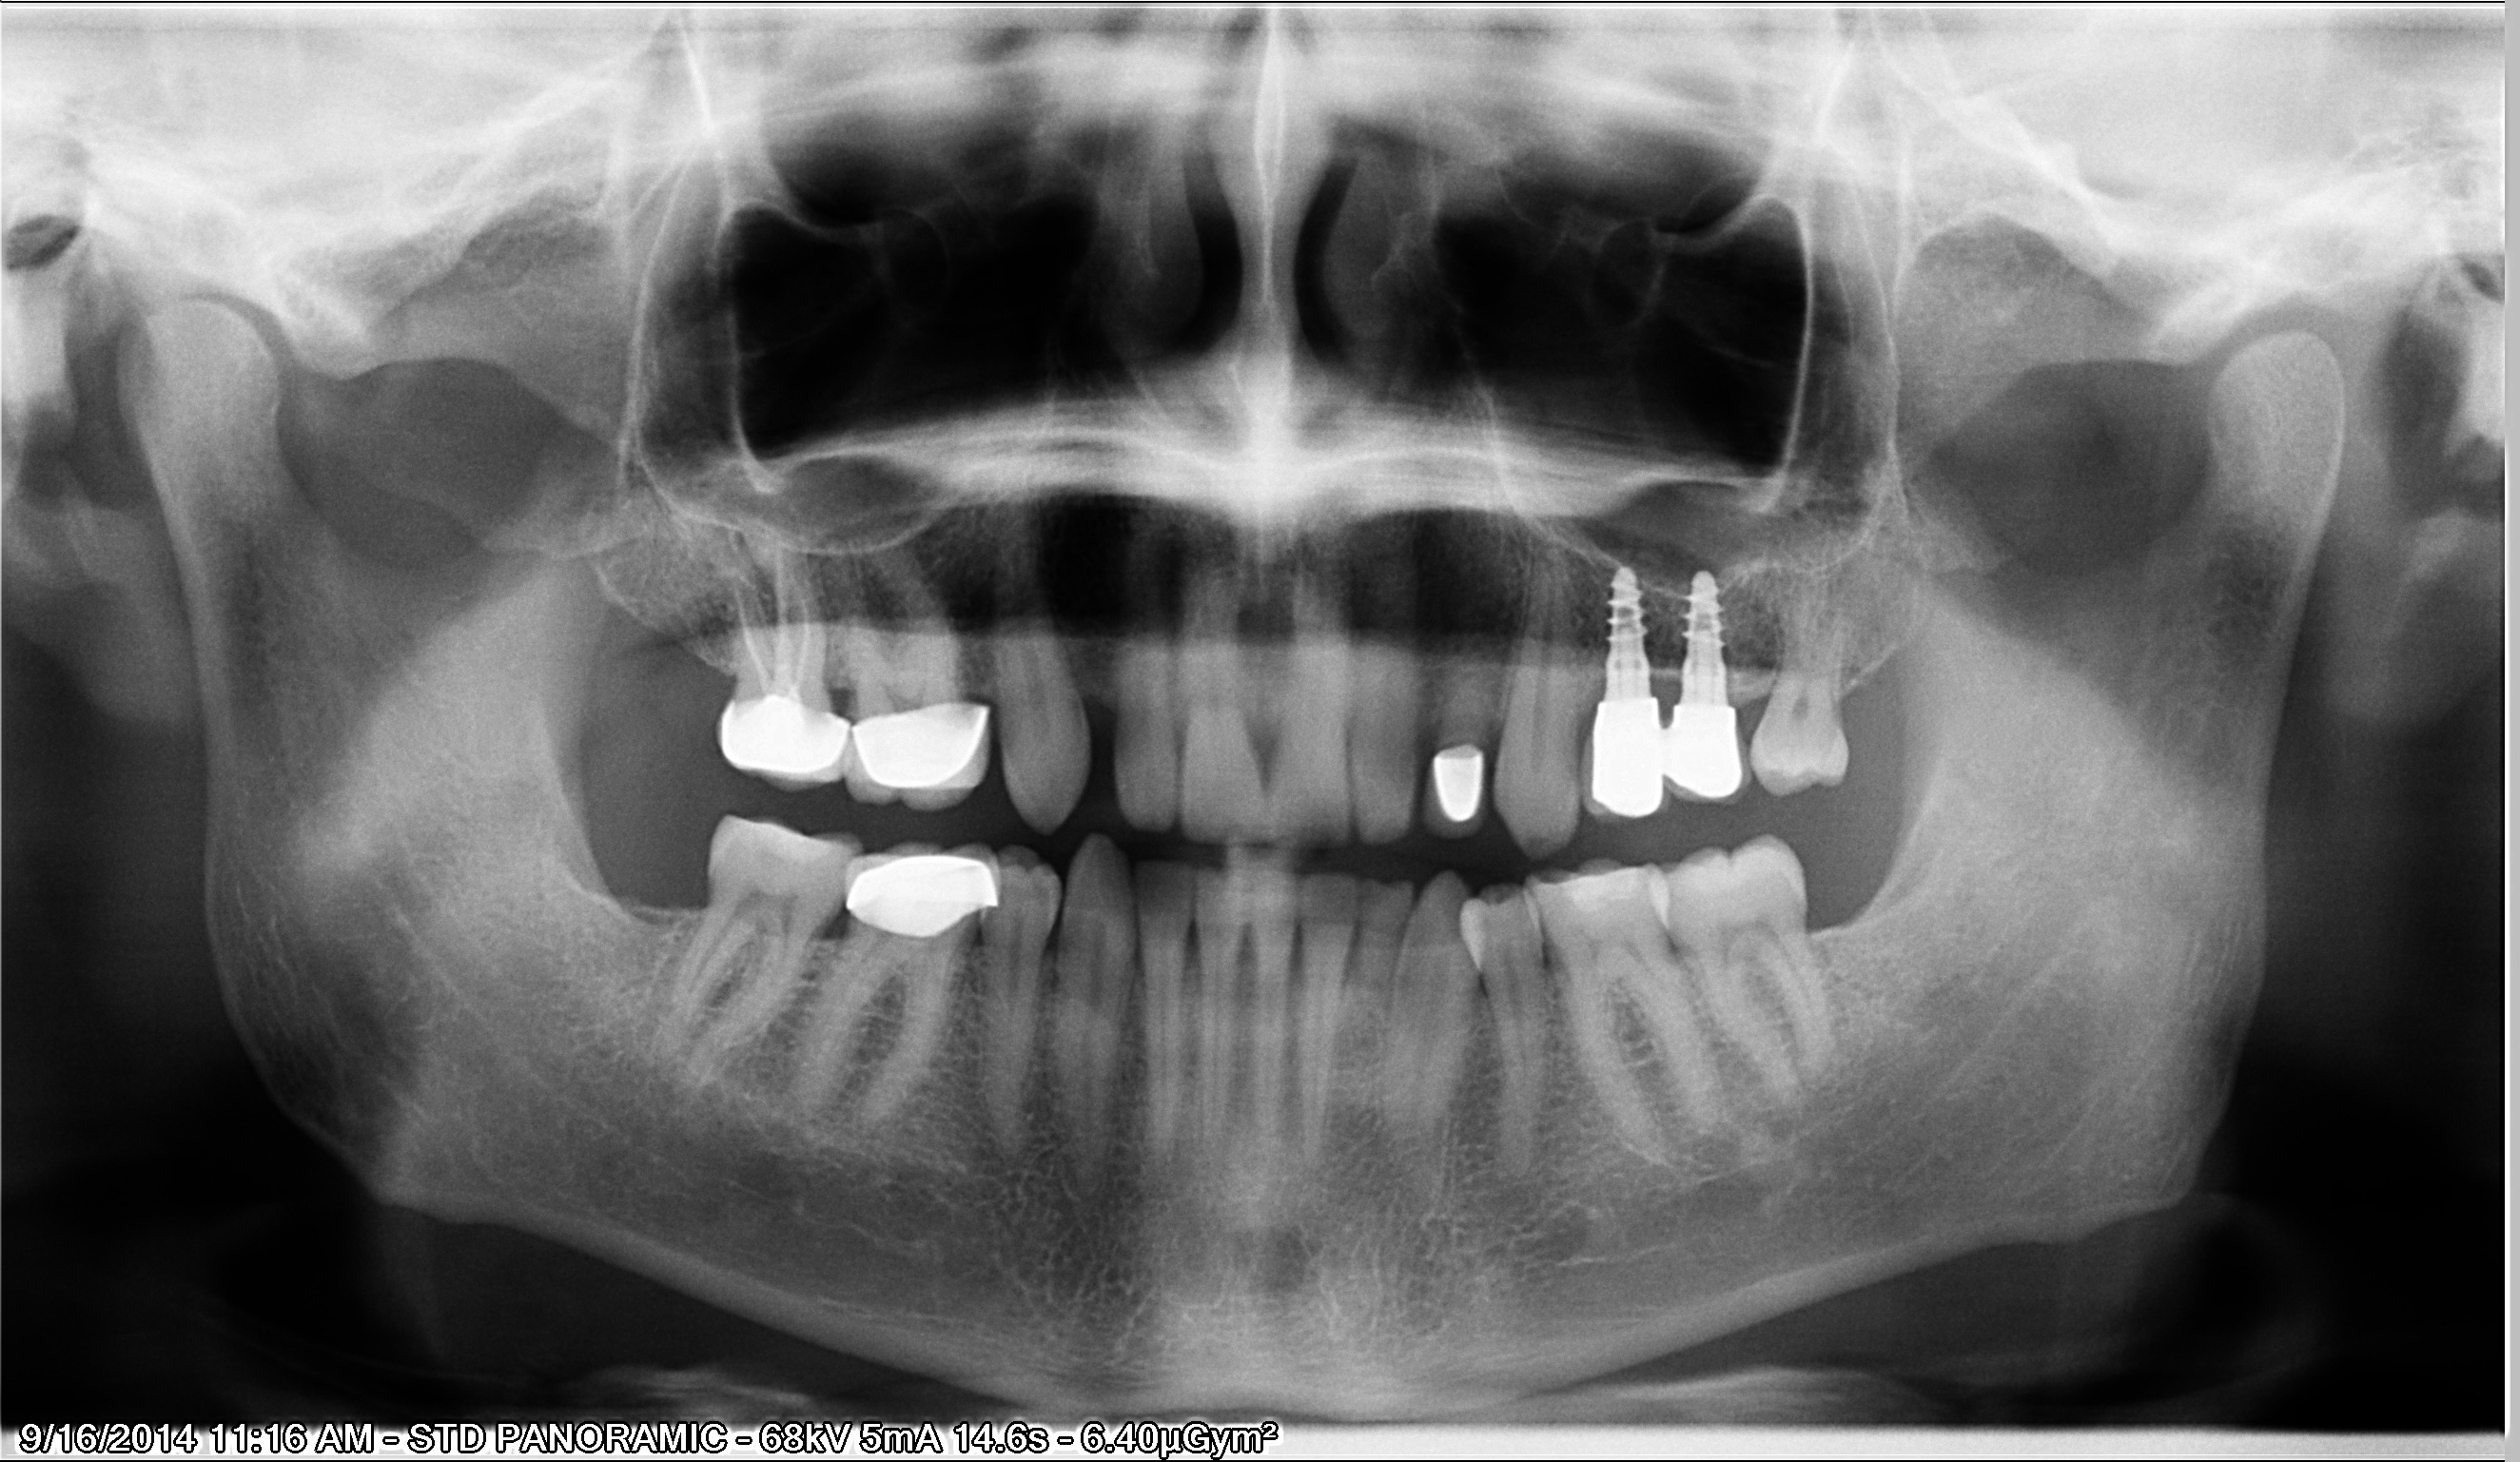END: (733, 526, 809, 700)
PRR: (720, 696, 851, 780)
